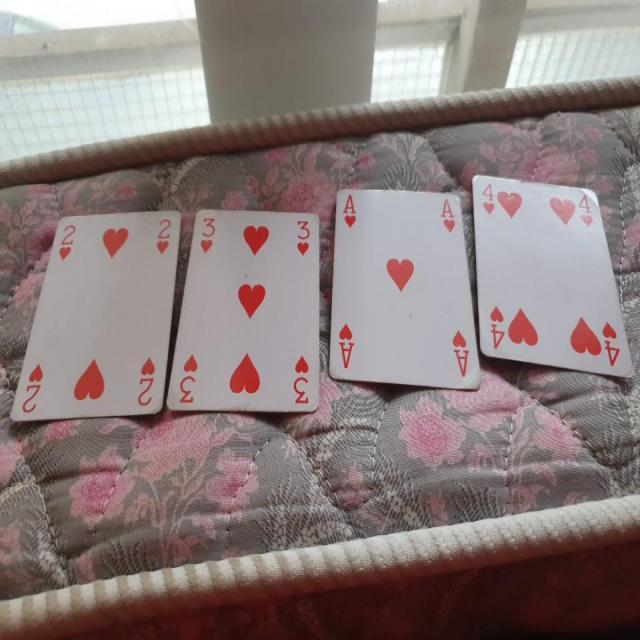2 Hearts: (12, 206, 185, 425)
3 Hearts: (164, 202, 325, 426)
4 Hearts: (465, 172, 640, 386)
A Hearts: (328, 178, 486, 405)
